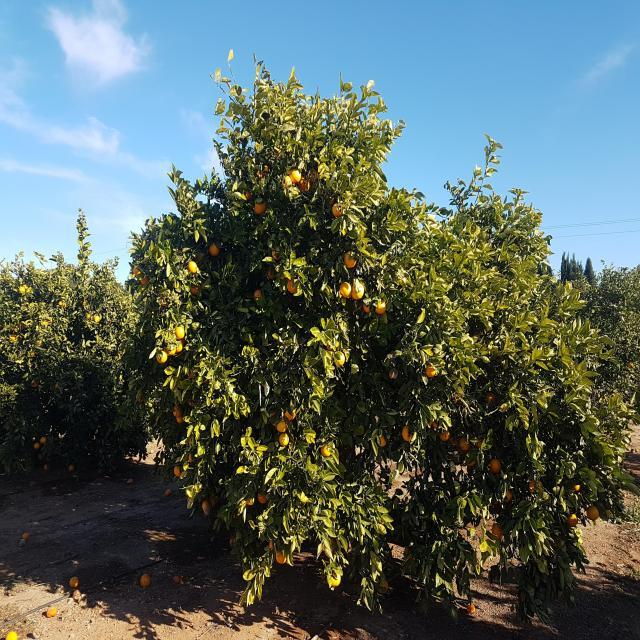Jeruk Sudah Matang: (326, 569, 342, 585), (352, 282, 364, 300), (254, 198, 266, 214), (298, 176, 310, 192), (344, 252, 356, 268), (340, 282, 352, 298), (492, 524, 504, 540), (332, 202, 344, 217), (403, 426, 414, 442), (426, 362, 437, 378), (490, 458, 501, 474), (323, 538, 335, 552), (530, 480, 542, 494), (586, 506, 598, 520), (156, 350, 168, 363), (566, 514, 578, 527), (290, 169, 301, 183), (376, 300, 387, 314), (334, 351, 344, 366), (276, 420, 288, 432), (284, 408, 296, 420), (288, 278, 297, 294), (475, 436, 486, 449), (140, 573, 150, 587), (188, 260, 198, 274), (210, 242, 220, 256), (276, 550, 286, 564), (272, 246, 282, 260), (282, 175, 292, 189), (378, 433, 388, 447), (378, 580, 388, 594), (321, 444, 332, 456), (174, 404, 184, 417), (258, 491, 268, 504), (440, 428, 450, 441), (460, 437, 470, 450), (176, 326, 186, 338), (174, 340, 184, 352), (280, 433, 289, 446), (166, 344, 176, 355), (274, 147, 284, 158), (5, 631, 17, 640), (174, 465, 183, 477), (260, 164, 269, 176), (308, 169, 316, 182), (326, 339, 334, 352), (505, 489, 513, 502), (134, 266, 144, 276), (432, 420, 442, 430), (466, 457, 476, 467), (177, 412, 186, 423), (70, 576, 78, 588), (267, 268, 275, 280), (488, 392, 496, 404), (190, 286, 199, 296), (244, 190, 253, 200), (363, 302, 372, 312), (269, 540, 276, 552), (246, 494, 253, 506), (573, 484, 582, 493), (160, 295, 168, 305), (203, 500, 211, 510), (254, 290, 262, 300), (452, 392, 459, 403), (140, 276, 149, 284), (271, 412, 277, 424), (188, 368, 195, 378), (209, 496, 216, 506), (280, 272, 288, 280), (426, 416, 434, 424), (40, 436, 47, 444), (22, 533, 30, 540), (187, 497, 194, 505), (230, 538, 237, 546), (490, 501, 498, 508), (451, 438, 457, 447), (41, 320, 48, 327), (94, 316, 101, 323), (173, 281, 180, 288), (18, 288, 26, 294), (18, 322, 24, 330), (32, 380, 38, 388), (628, 361, 634, 369), (11, 335, 17, 342), (60, 301, 66, 308), (82, 302, 89, 308), (34, 442, 40, 449), (69, 465, 75, 472), (190, 453, 194, 463), (28, 352, 34, 358), (85, 312, 91, 318), (37, 340, 42, 346), (47, 317, 52, 323), (115, 354, 121, 359), (166, 490, 171, 496), (56, 382, 60, 389), (24, 284, 28, 290), (146, 311, 152, 315), (15, 327, 19, 332)
